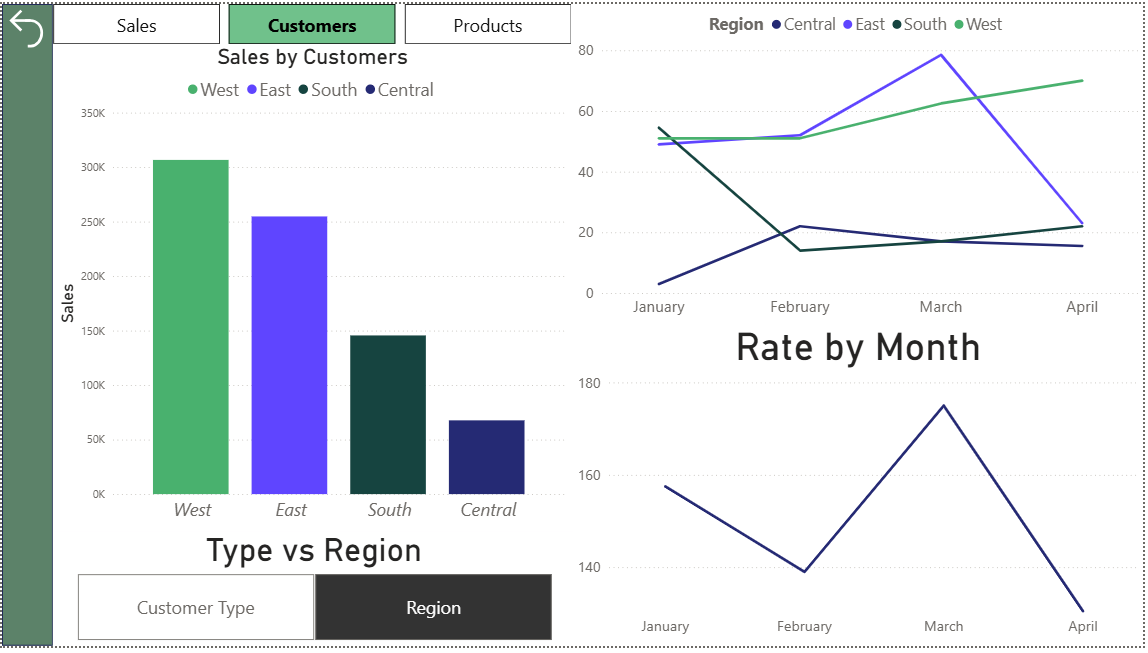

The page's visual inventory and layout, read from the dashboard file:
{"tool":"powerbi","page":{"name":"Customers","canvas":[1280,720],"ordinal":1},"visuals":[{"type":"lineChart","title":"CoType & CoRegion","fields":{"Series":["customers.Customer Type"],"Category":["sales_data_final.Date.Variation.Date Hierarchy.Month","sales_data_final.Date.Variation.Date Hierarchy.Day"],"Y":["Sum(customer_feedback_final.ِAVG_Rate)"]},"box":[640.8,0,639.5,360.9],"z":0},{"type":"shape","box":[0,0,57,719.8],"z":1000},{"type":"slicer","title":"Type vs Region","fields":{"Values":["CoType & CoRegion.CoType & CoRegion"]},"box":[59,591.4,581.8,129],"z":2000},{"type":"lineChart","title":"Rate by Month","fields":{"Category":["sales_data_final.Date.Variation.Date Hierarchy.Month","sales_data_final.Date.Variation.Date Hierarchy.Day"],"Y":["Sum(customer_feedback_final.ِAVG_Rate)"]},"box":[640.8,359.5,639.5,360.9],"z":3000},{"type":"actionButton","box":[0,0,55,55],"z":4000},{"type":"pageNavigator","box":[57.6,0,583.2,45.3],"z":5000},{"type":"columnChart","title":"Sales by Customers","fields":{"Series":["customers.Customer Type"],"Category":["customers.Region"],"Y":["sales_data_final.Total Sales"]},"box":[57.6,45.3,581.8,546.1],"z":6000}]}

Visuals, with their boxes on the page's 1280x720 design canvas (x1, y1, x2, y2). These are canvas units, not pixel positions in the 1148x653 screenshot, which may show the page scaled, cropped or inside an application window:
"CoType & CoRegion" lineChart: [641,0,1280,361]
shape: [0,0,57,720]
"Type vs Region" slicer: [59,591,641,720]
"Rate by Month" lineChart: [641,360,1280,720]
actionButton: [0,0,55,55]
pageNavigator: [58,0,641,45]
"Sales by Customers" columnChart: [58,45,639,591]
